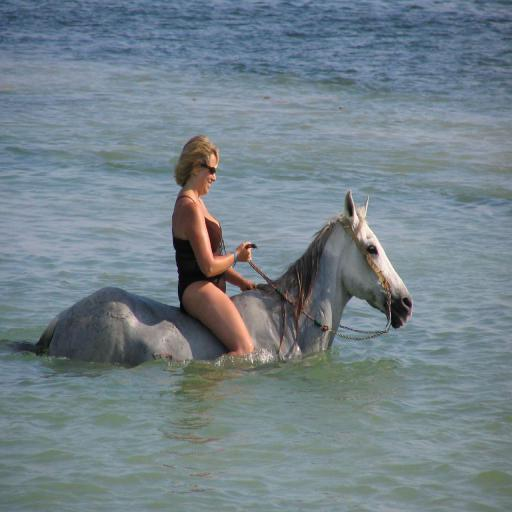horse: (0, 188, 415, 370)
